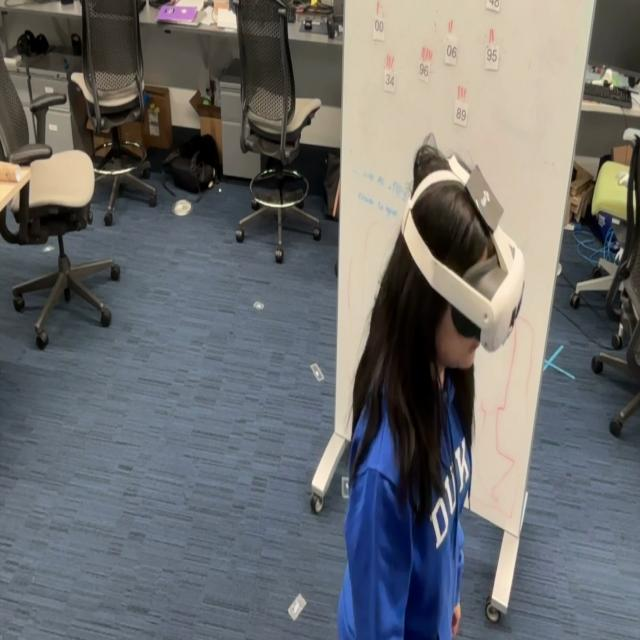Headset: (400, 151, 526, 353)
UnityLogo: (464, 161, 505, 235)
